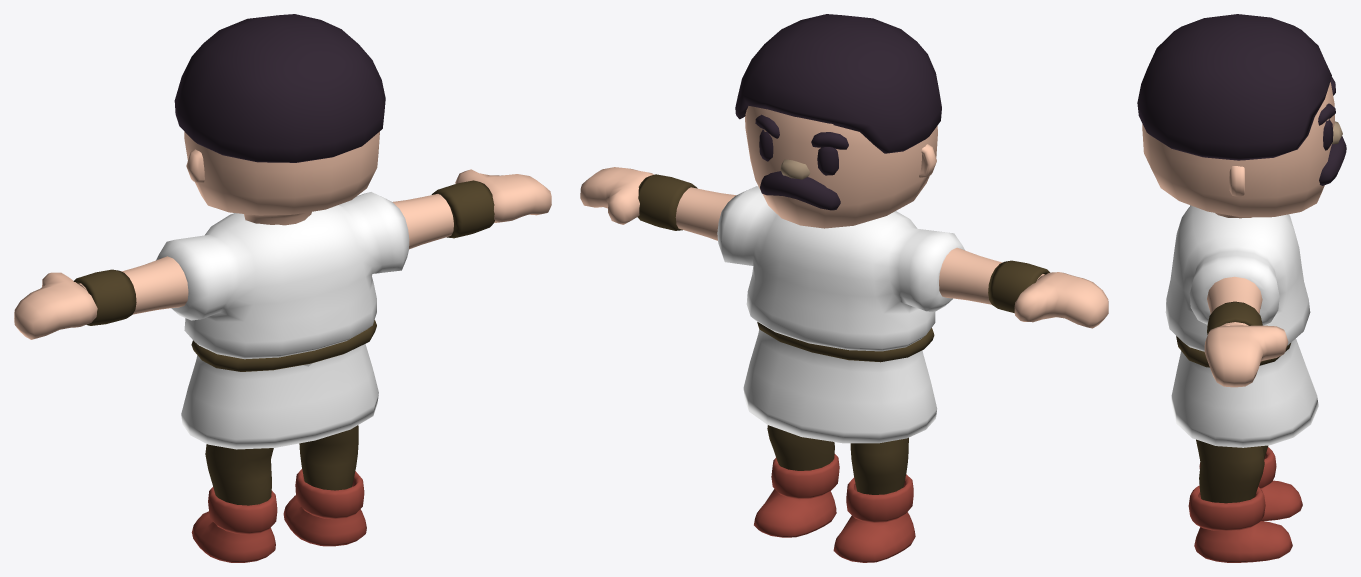
Rendered from man_03.fbx.
The picture shows the model from 3 angles, left to right: view 1: azimuth 30°, elevation 25°; view 2: azimuth 150°, elevation 25°; view 3: azimuth 270°, elevation 25°; orthographic projection. The views are drawn at different scales.
Visible parts, largest first — view 1: Cube.006; view 2: Cube.006; view 3: Cube.006.
Boxes of the visible parts, x1,y1,x2,y2 form: Cube.006: (14,14,551,562); Cube.006: (580,14,1108,562); Cube.006: (1137,14,1346,562).
Size of the model in its own units: 476 by 442 by 167.
